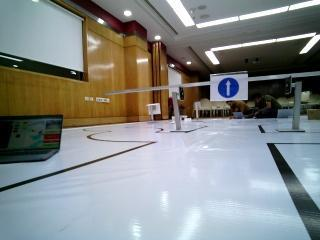straight: (210, 74, 249, 100)
